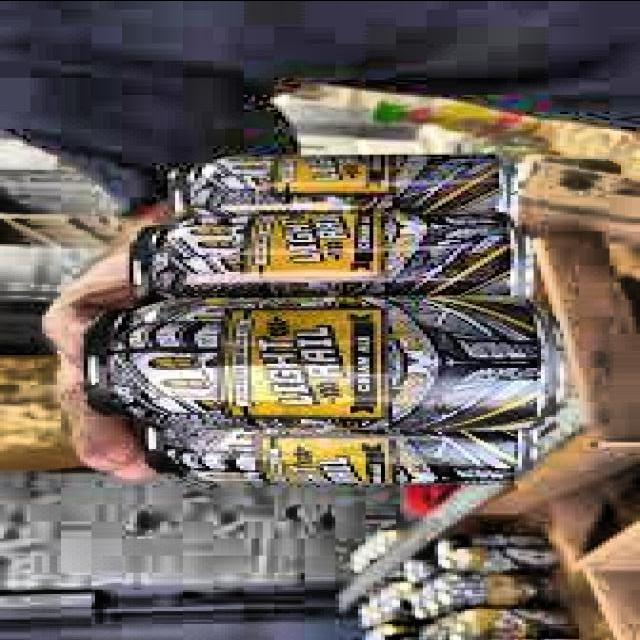Aluminum Can: (72, 292, 573, 432), (120, 205, 532, 308), (127, 402, 534, 483), (160, 148, 518, 224)
